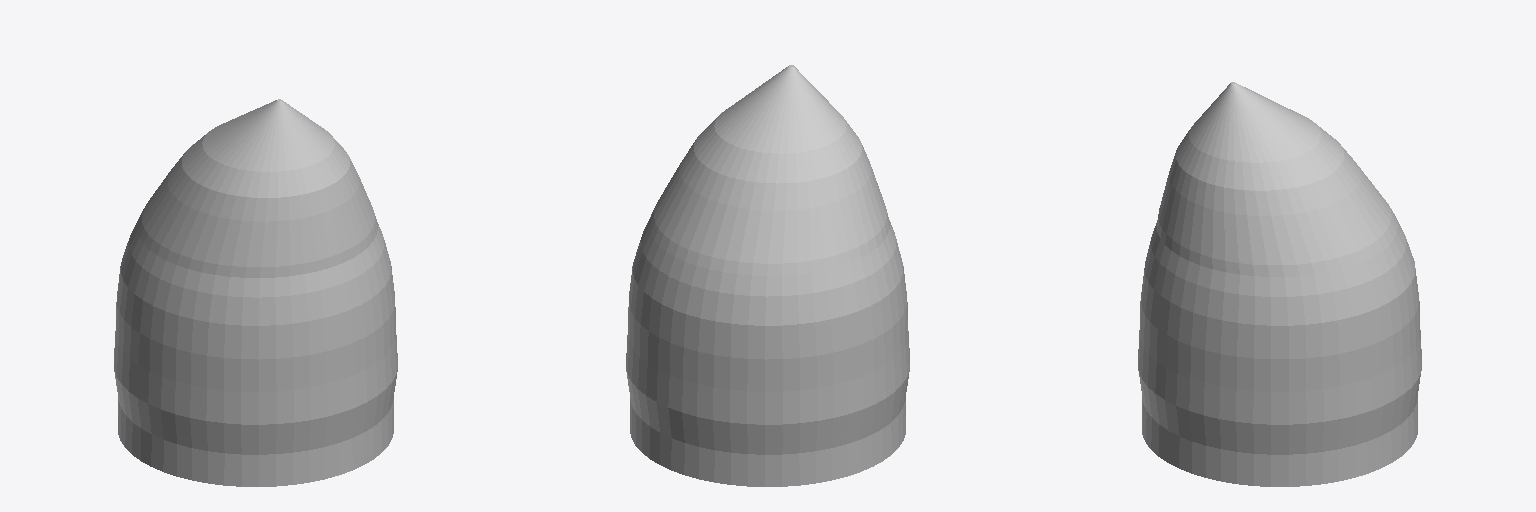
The model's file is shlem.obj.
3 views of the same model, side by side, from view 1: azimuth 30°, elevation 25°; view 2: azimuth 150°, elevation 25°; view 3: azimuth 270°, elevation 25° (orthographic).
Parts seen in each view (by area): view 1: Cylinder; view 2: Cylinder; view 3: Cylinder.
Part boxes in pixels (x1,y1,x2,y2): Cylinder: (114, 99, 397, 486); Cylinder: (626, 65, 909, 486); Cylinder: (1138, 82, 1421, 486).
Bounding box in the file's own units: 2.37 × 3.18 × 2.38.